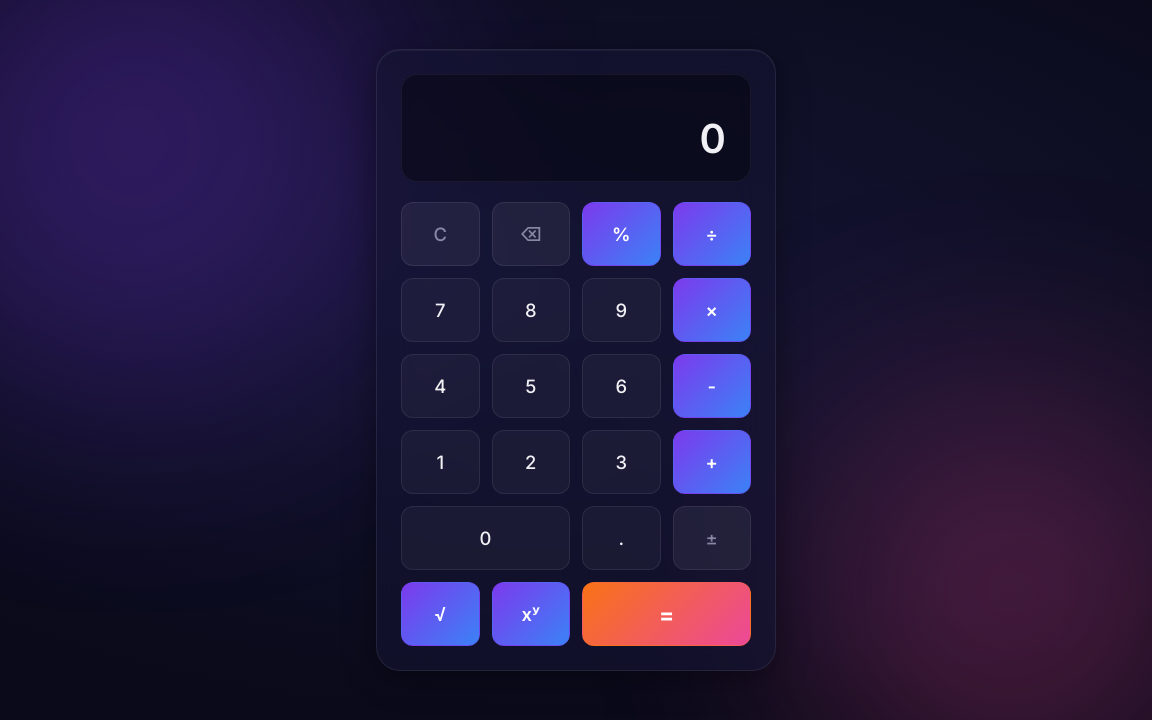
Test case: Calculator Component › clears the display on C press
Click the button "5": (531, 386) [492, 354, 570, 418]
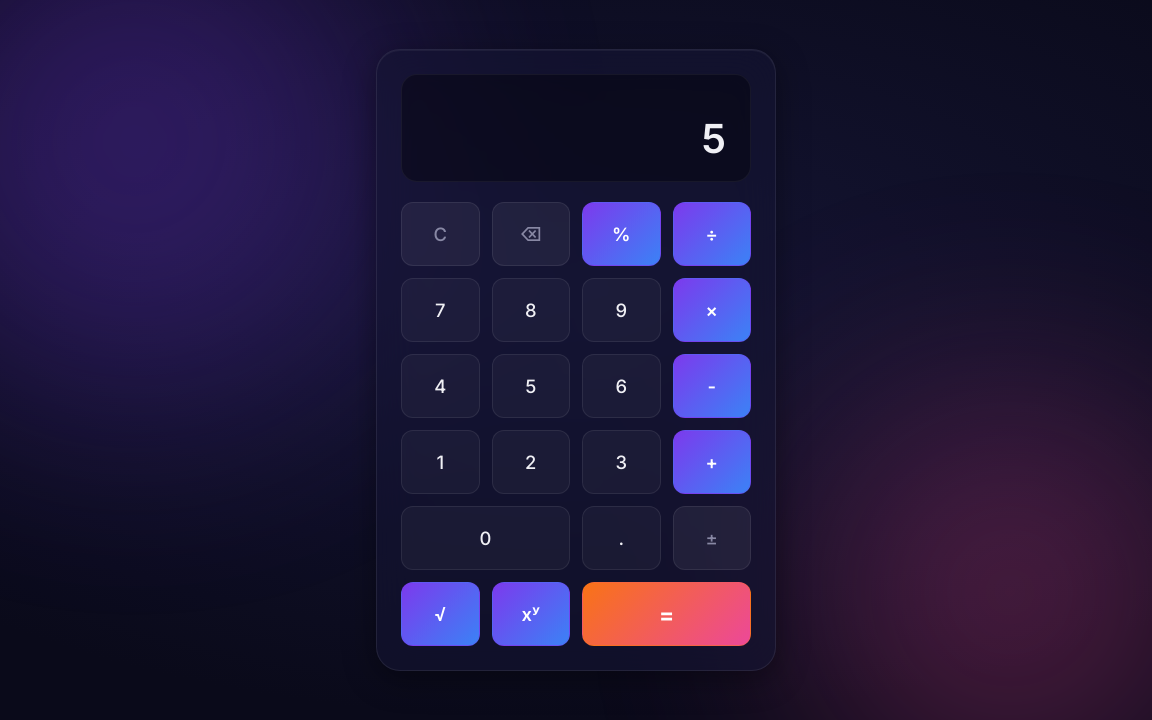
Click the button "C": (440, 234) [401, 202, 480, 266]
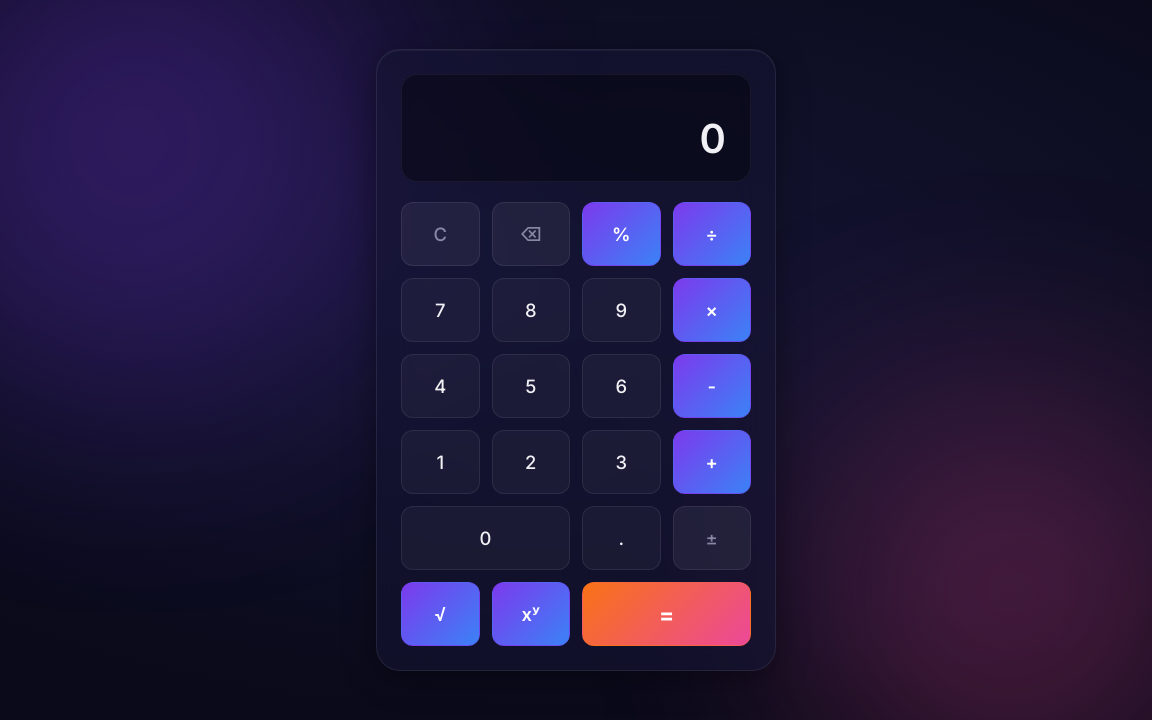
Expected: the text with class "display__value" reads "0", [700, 114, 726, 163]
